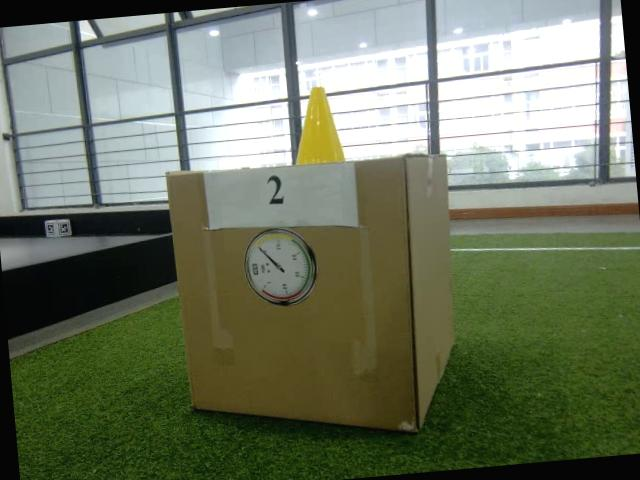2: (264, 174, 284, 206)
Dashboard: (242, 226, 321, 312)
ssi: (252, 261, 260, 277)
yellow_barrel: (291, 83, 348, 166)
